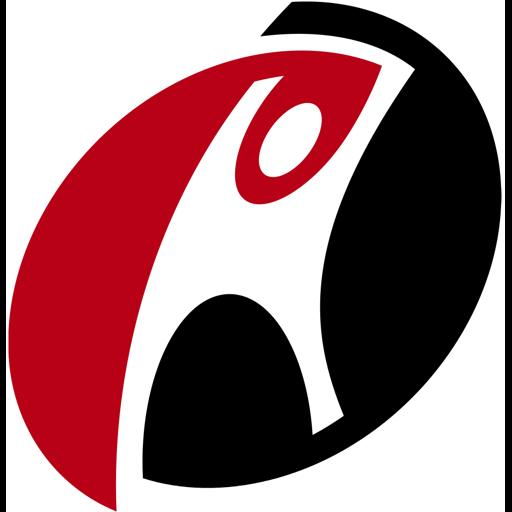Rackspace: (6, 0, 505, 512)
